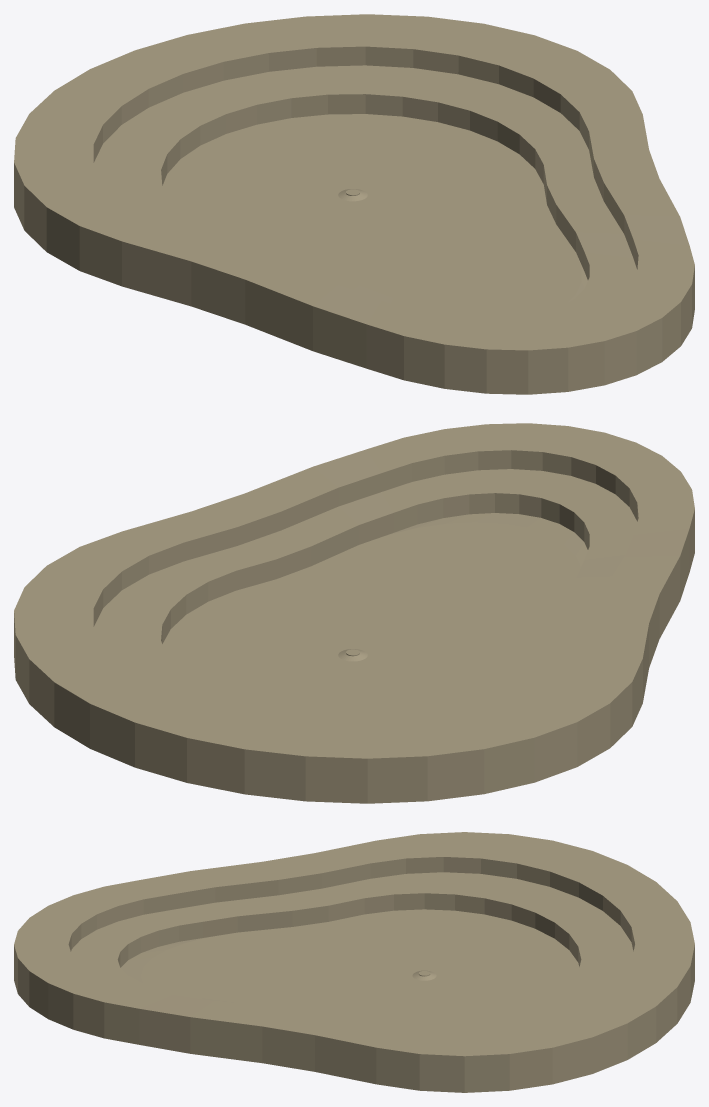
File: planet2 base.fbx
The picture shows the model from 3 angles, top to bottom: view 1: azimuth 30°, elevation 25°; view 2: azimuth 150°, elevation 25°; view 3: azimuth 270°, elevation 25°; orthographic projection. The views are drawn at different scales.
Parts seen in each view (by area): view 1: Circle.001; view 2: Circle.001; view 3: Circle.001.
Part boxes in pixels (bbox=[...]): Circle.001: bbox=[14, 14, 694, 394]; Circle.001: bbox=[14, 423, 694, 803]; Circle.001: bbox=[14, 832, 694, 1092].
Bounding box in the file's own units: 18265 × 1396 × 23446.
